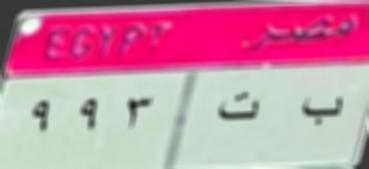3: (124, 93, 156, 132)
9: (76, 94, 102, 140), (27, 94, 52, 140)
baa: (299, 94, 345, 130)
taa: (215, 89, 262, 128)
